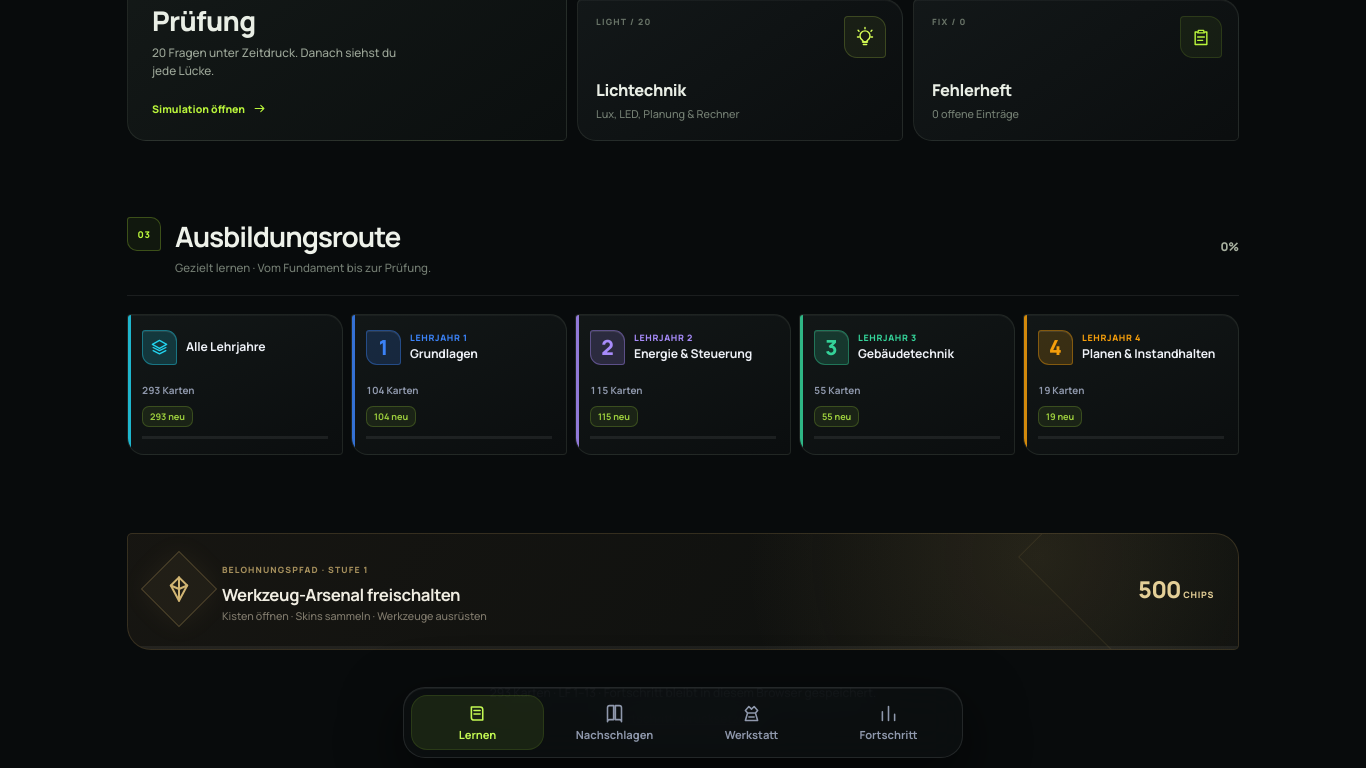
Test case: Quiz-Flow › startet ein Quiz fuer Lehrjahr 1 / LF1 und beantwortet eine Frage
(page scrolled)
Step 1. Click the button with aria-label "Lehrjahr 1, Grundlagen" → point(459, 384), box [351,314,567,455]
(page scrolled)
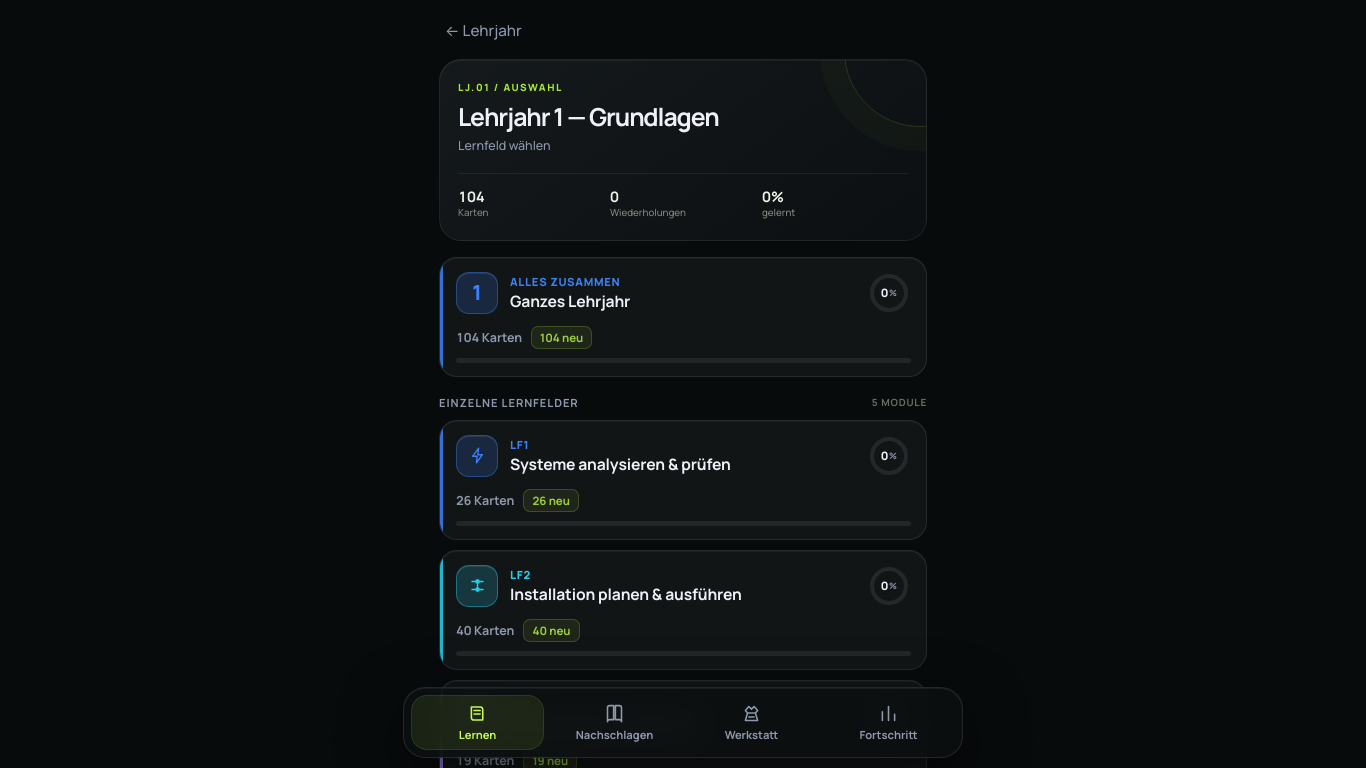
Step 2. Click the button with aria-label "LF1," → point(477, 456), box [439,420,927,540]
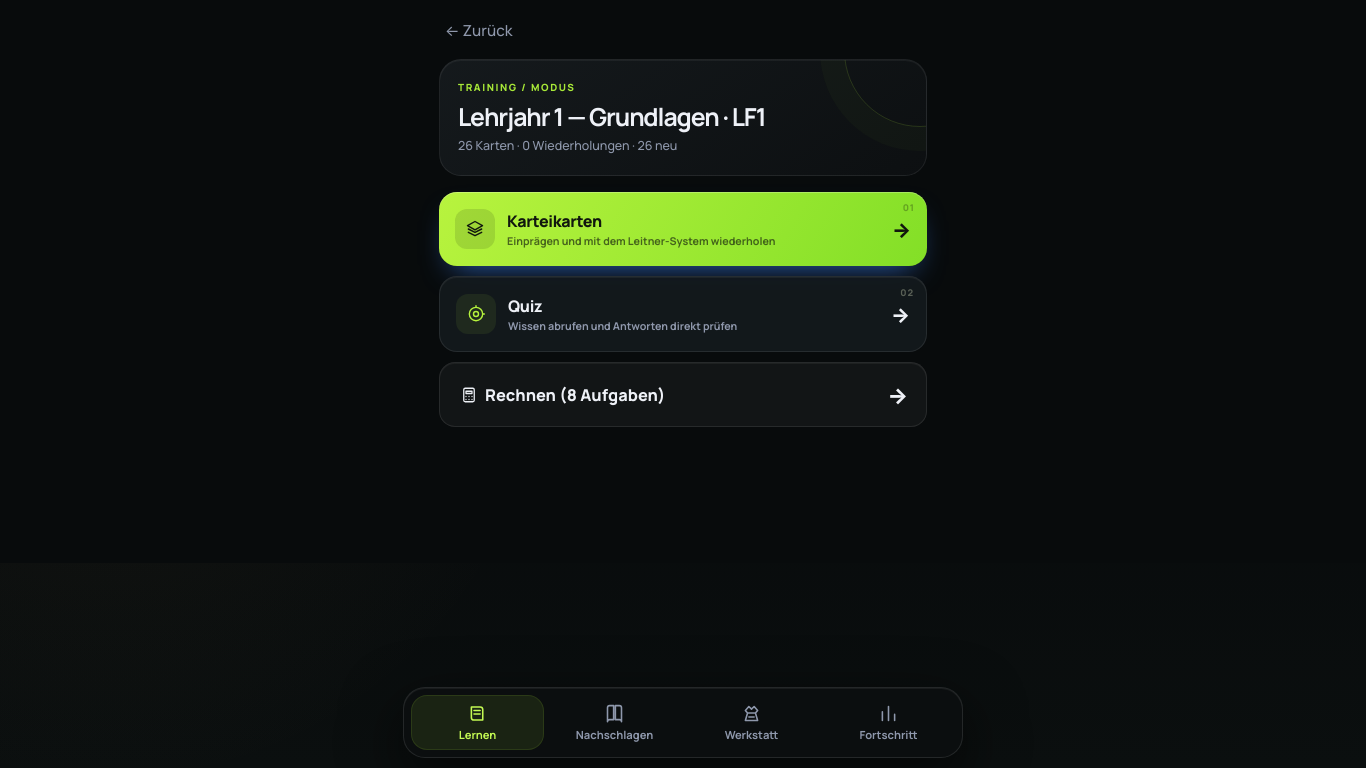
Step 3. Click the text "Quiz" → point(525, 306), box [508,295,542,317]
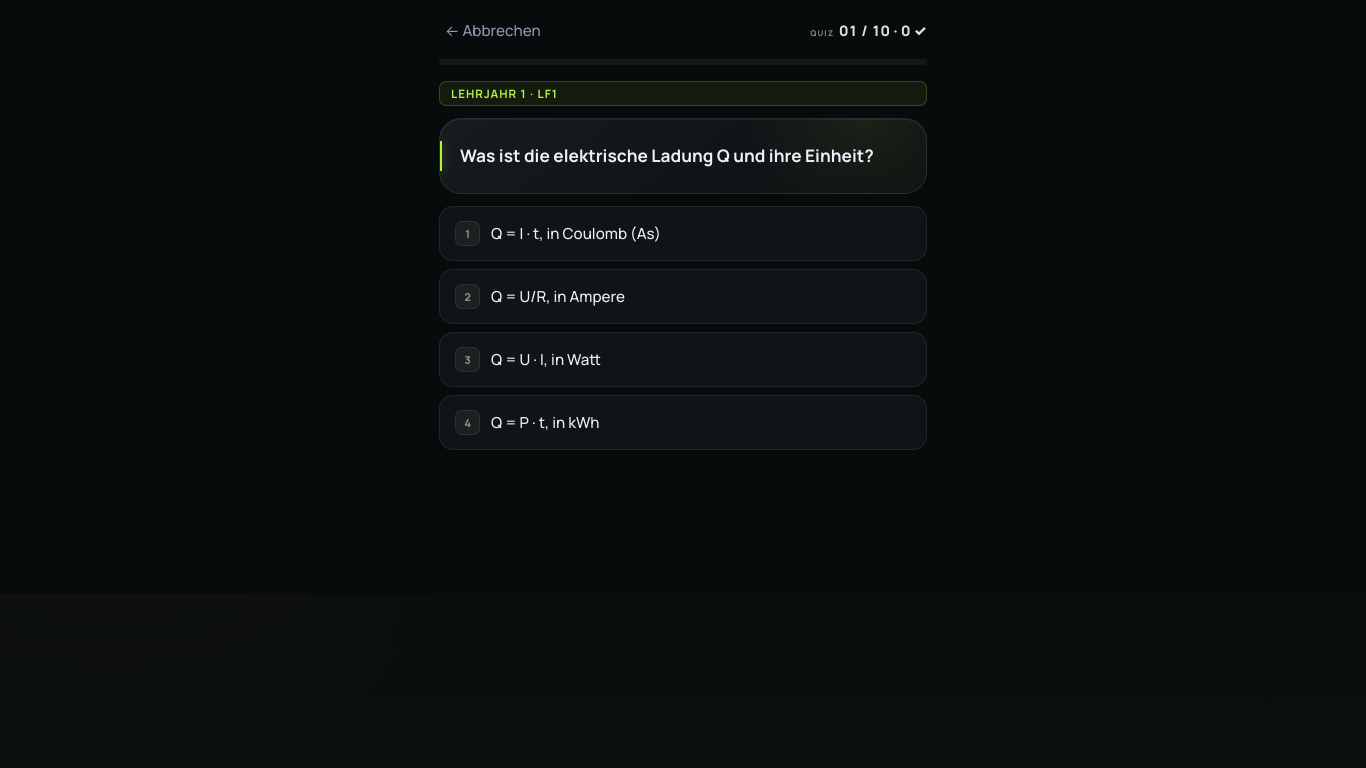
Expected: the text "Was ist die elektrische Ladung Q und ihre Einheit?" is shown, [439,118,927,194]
Step 4. Click the button with class "opt" showing "1 Q = I · t, in Coulomb (As)" → point(576, 233), box [439,206,927,261]
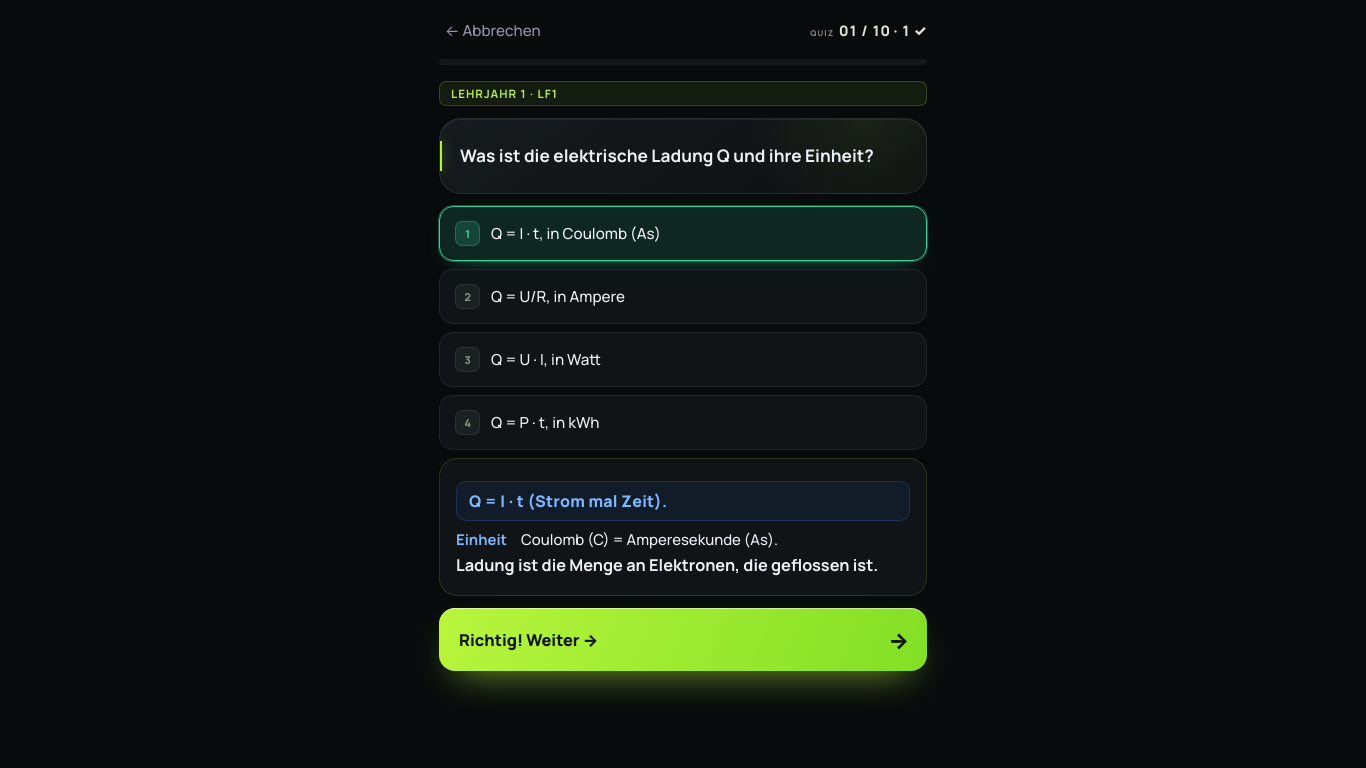
Expected: the element that starts with "Q = I · t (Strom mal Zeit)." is shown, [439,458,927,596]
